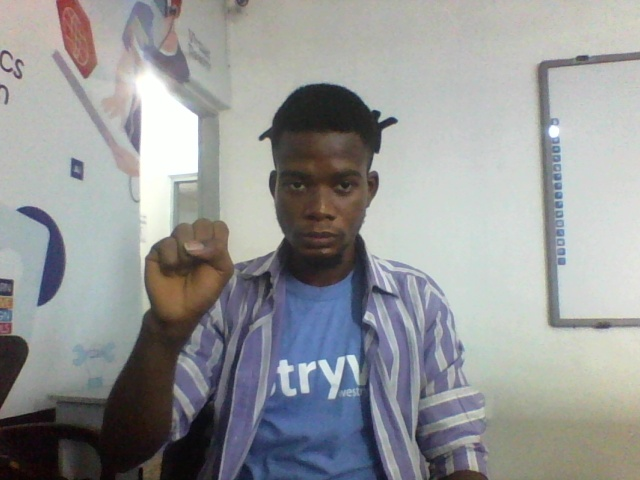yes: (133, 218, 244, 355)
